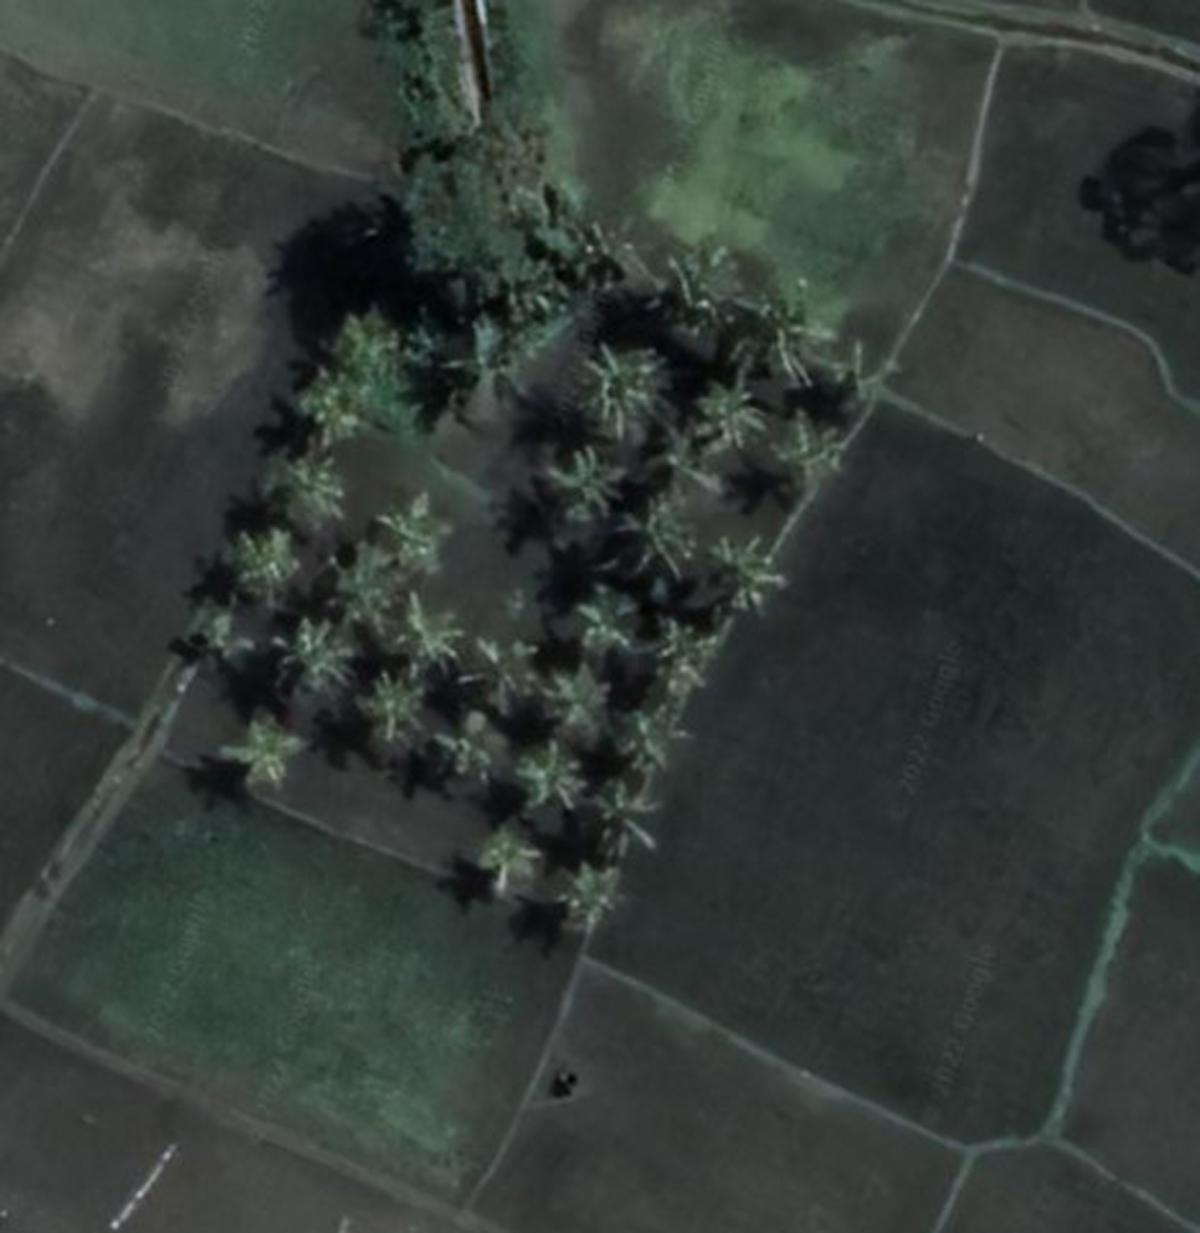coconut: (583, 348, 681, 452), (653, 243, 748, 348), (702, 515, 789, 628), (741, 276, 825, 388), (676, 374, 770, 466), (225, 717, 305, 815), (830, 321, 910, 407), (325, 556, 412, 635), (466, 633, 558, 707), (779, 402, 858, 489), (623, 494, 702, 579), (228, 525, 310, 604), (274, 607, 348, 692), (384, 599, 463, 676), (583, 774, 653, 861), (546, 451, 623, 530), (377, 489, 458, 563), (541, 866, 610, 951), (535, 663, 610, 740), (615, 689, 684, 770), (274, 458, 351, 528), (582, 579, 648, 658), (487, 822, 553, 899), (515, 735, 582, 810), (294, 371, 361, 443), (356, 663, 417, 740), (646, 612, 710, 681), (423, 720, 479, 786), (194, 615, 258, 669)
